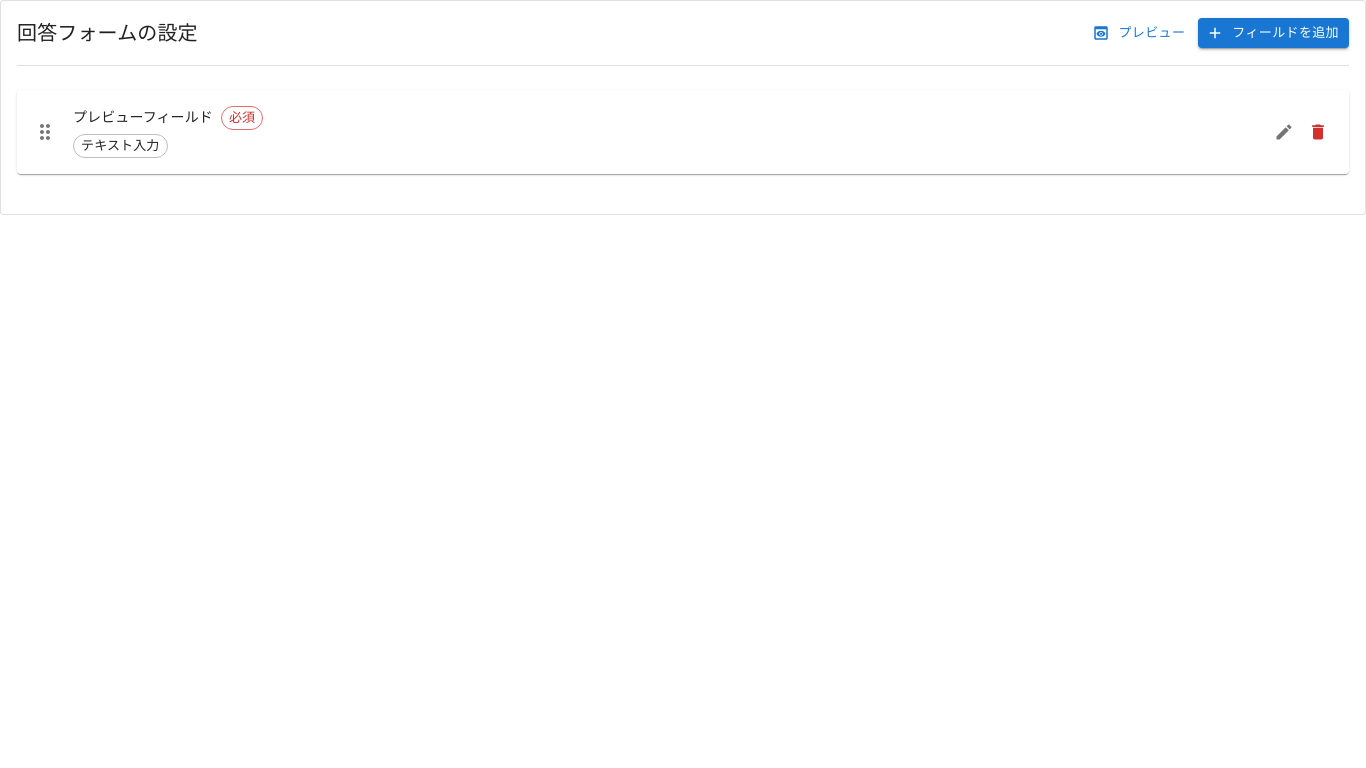
FormBuilder › プレビューダイアログが開く
The width and height of the screenshot is (1366, 768).
Click the button "プレビュー".
click(1140, 33)  # box [1089,18,1190,48]
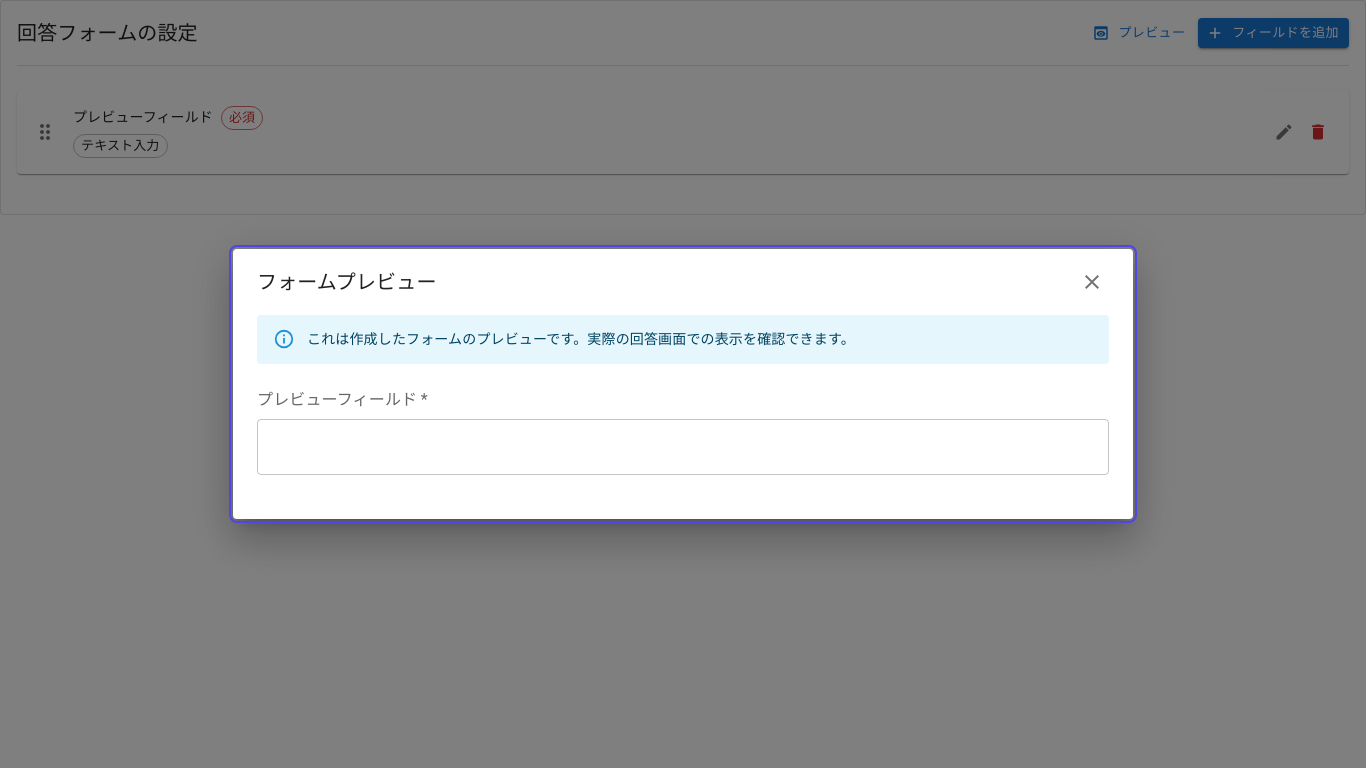
Now the heading "フォームプレビュー" is shown, box [257,266,437,298]
Now the text "これは作成したフォームのプレビューです。実際の回答画面での表示を確認できます。" is shown, box [307,332,855,348]
